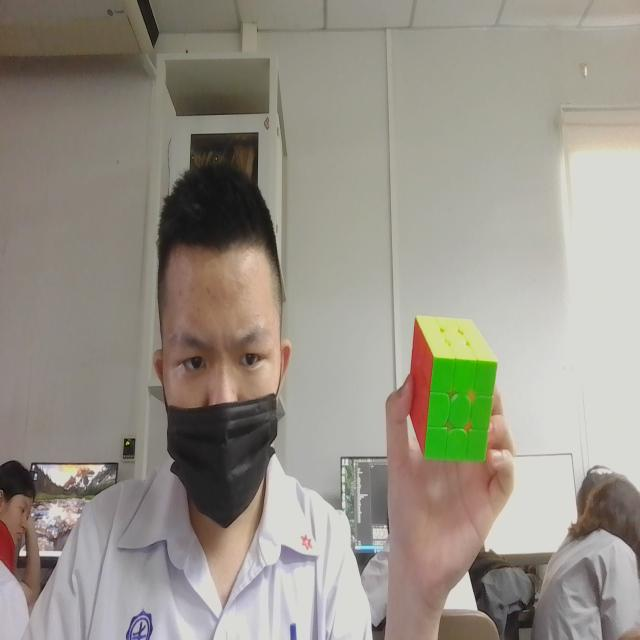rubik: (403, 295, 497, 479)
